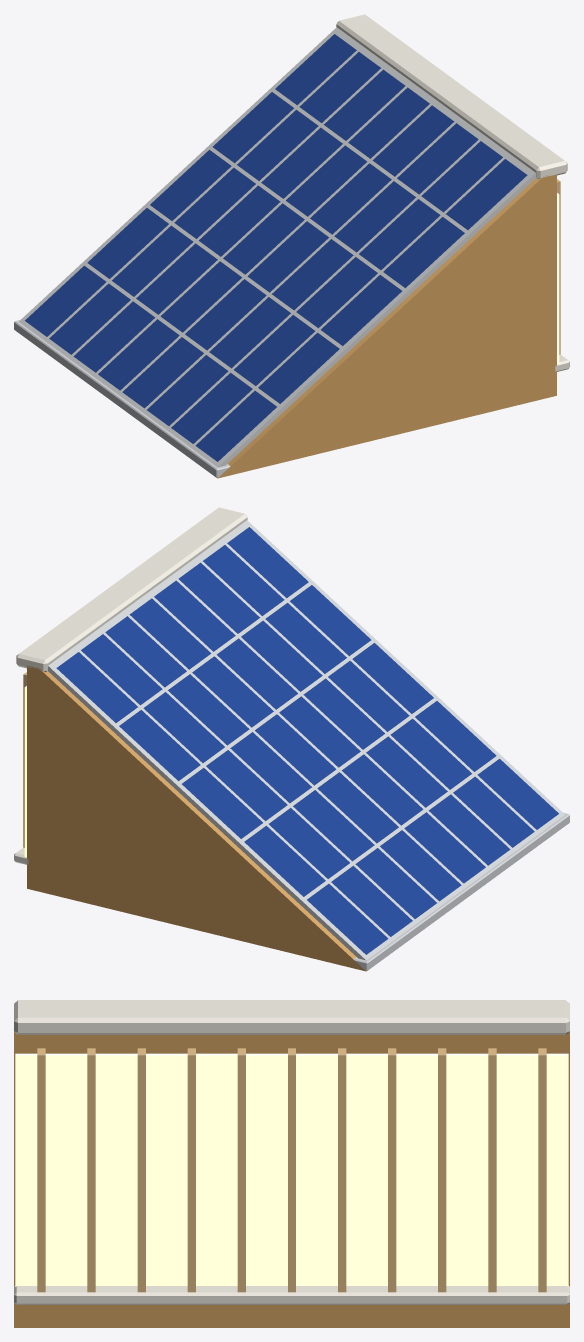
File: hall_sawtooth_bay.glb
3 views of the same model, one above another, from view 1: azimuth 30°, elevation 25°; view 2: azimuth 150°, elevation 25°; view 3: azimuth 270°, elevation 25° (orthographic). The views are drawn at different scales.
Parts seen in each view (by area): view 1: roof; view 2: roof; view 3: roof.
Boxes of the visible parts, x1,y1,x2,y2 form: roof: (14,14,569,478); roof: (14,507,569,971); roof: (14,1000,569,1327).
Size of the model in its own units: 4.07 by 2.54 by 4.04.
